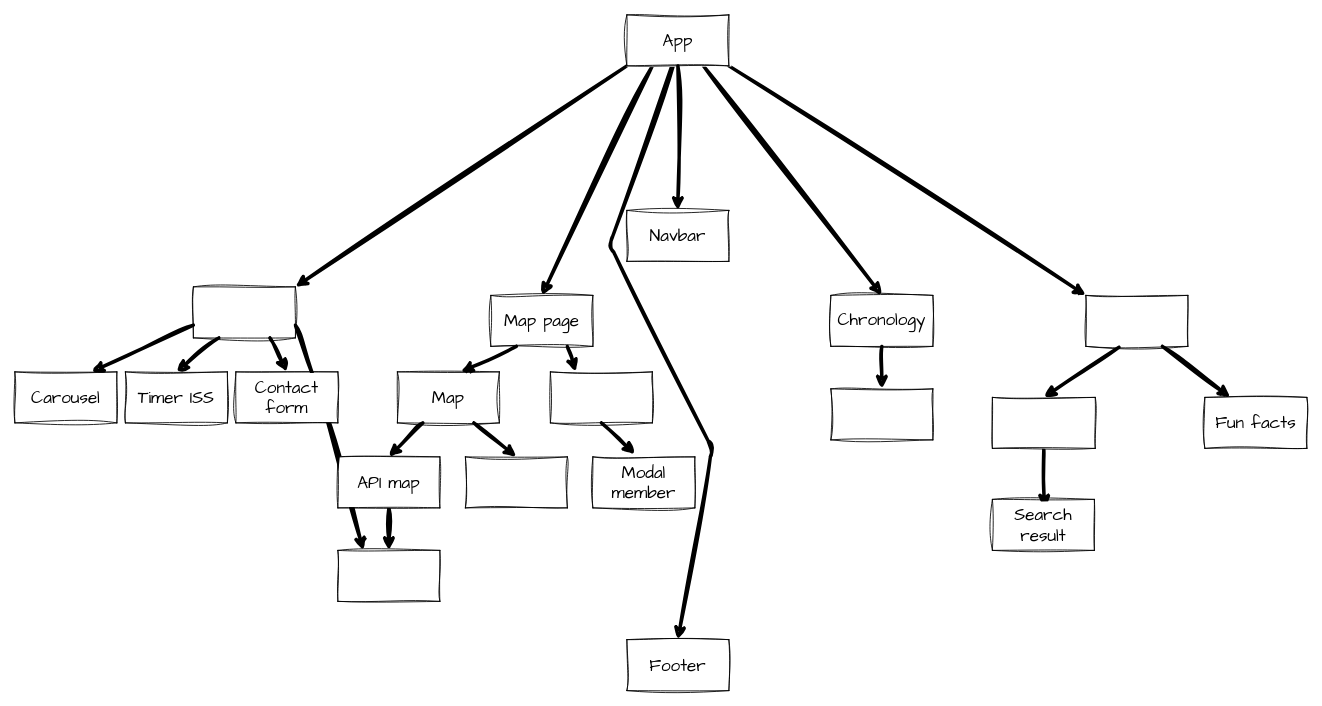
Some shapes in this 1322 by 706 pixel diagram are drawn without their labels. The box of each missing label's shape, as (x1, y1, x2, y2) in pixels:
API Infos: (465, 456, 567, 508)
Chronicles: (1085, 295, 1188, 346)
Crew: (550, 371, 652, 423)
Event: (830, 388, 933, 440)
Home page: (193, 286, 295, 338)
Live ISS: (337, 550, 440, 601)
Search bar: (992, 397, 1095, 448)
